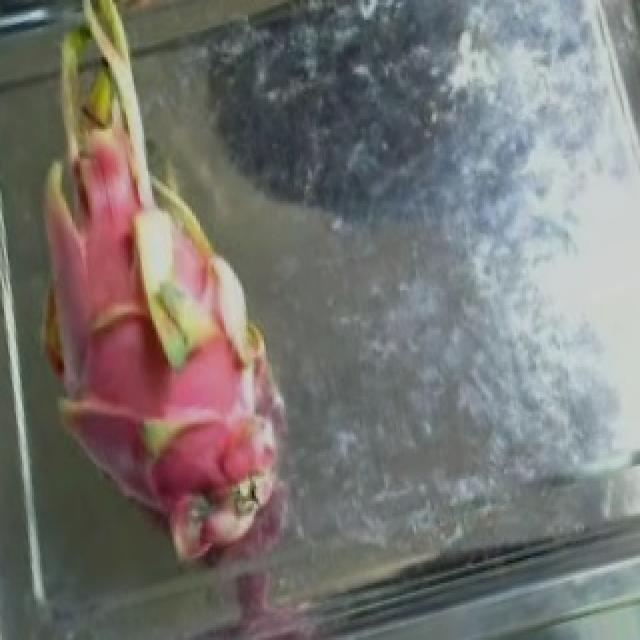fruit: (0, 171, 350, 593), (0, 10, 268, 449)
